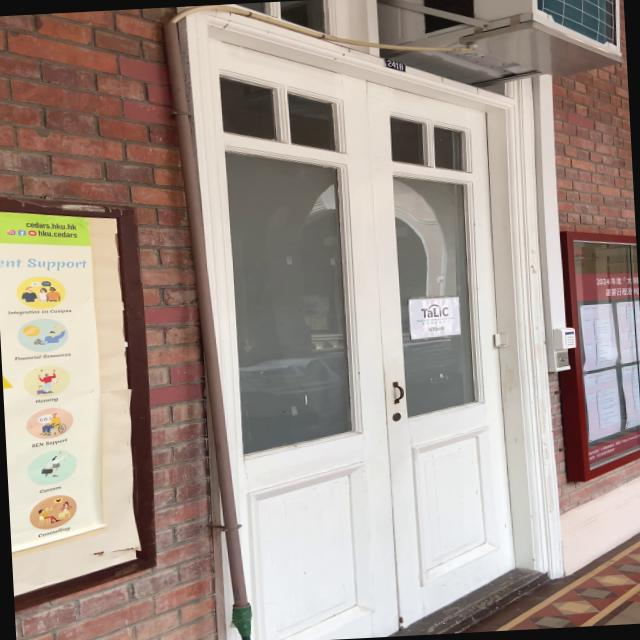room241b: (384, 57, 406, 73)
